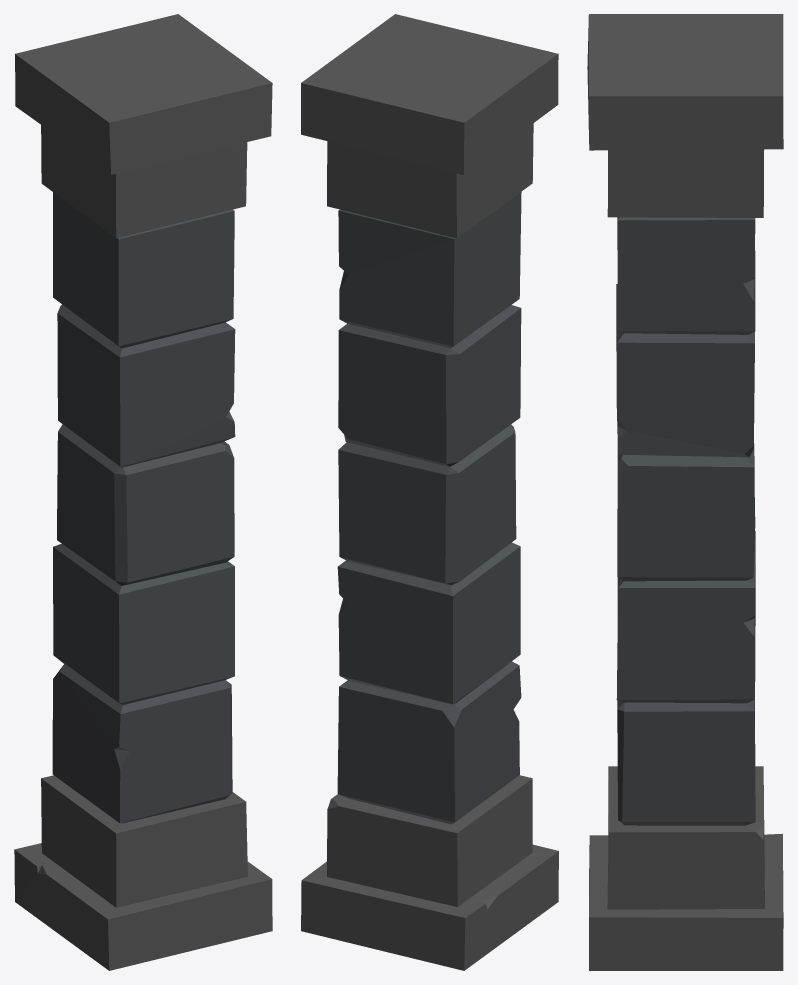
The model's file is Pillar_1.fbx.
3 views of the same model, side by side, from view 1: azimuth 30°, elevation 25°; view 2: azimuth 150°, elevation 25°; view 3: azimuth 270°, elevation 25° (orthographic). The views are drawn at different scales.
Parts seen in each view (by area): view 1: Pillar; view 2: Pillar; view 3: Pillar.
Boxes of the visible parts, x1,y1,x2,y2 form: Pillar: (14,14,272,970); Pillar: (301,14,558,970); Pillar: (587,14,783,970).
Bounding box in the file's own units: 101 × 496 × 101.
